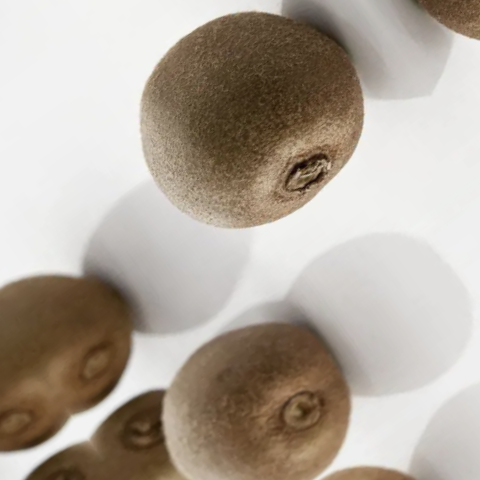kiwi: (71, 0, 426, 294), (112, 257, 401, 480)
